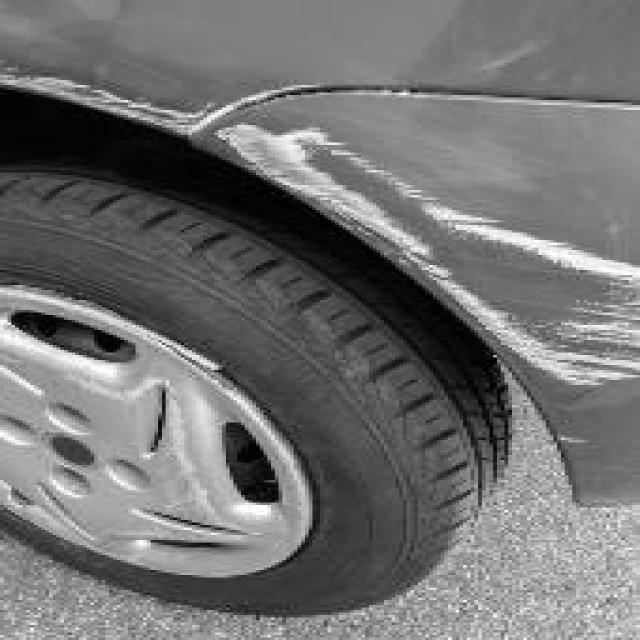Bumper: (226, 102, 640, 405)
Fender: (11, 5, 256, 128)
